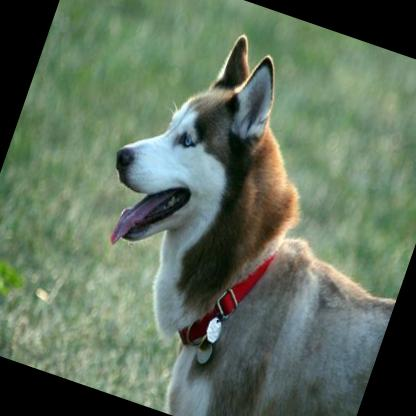Siberian_husky: (40, 6, 416, 416)
